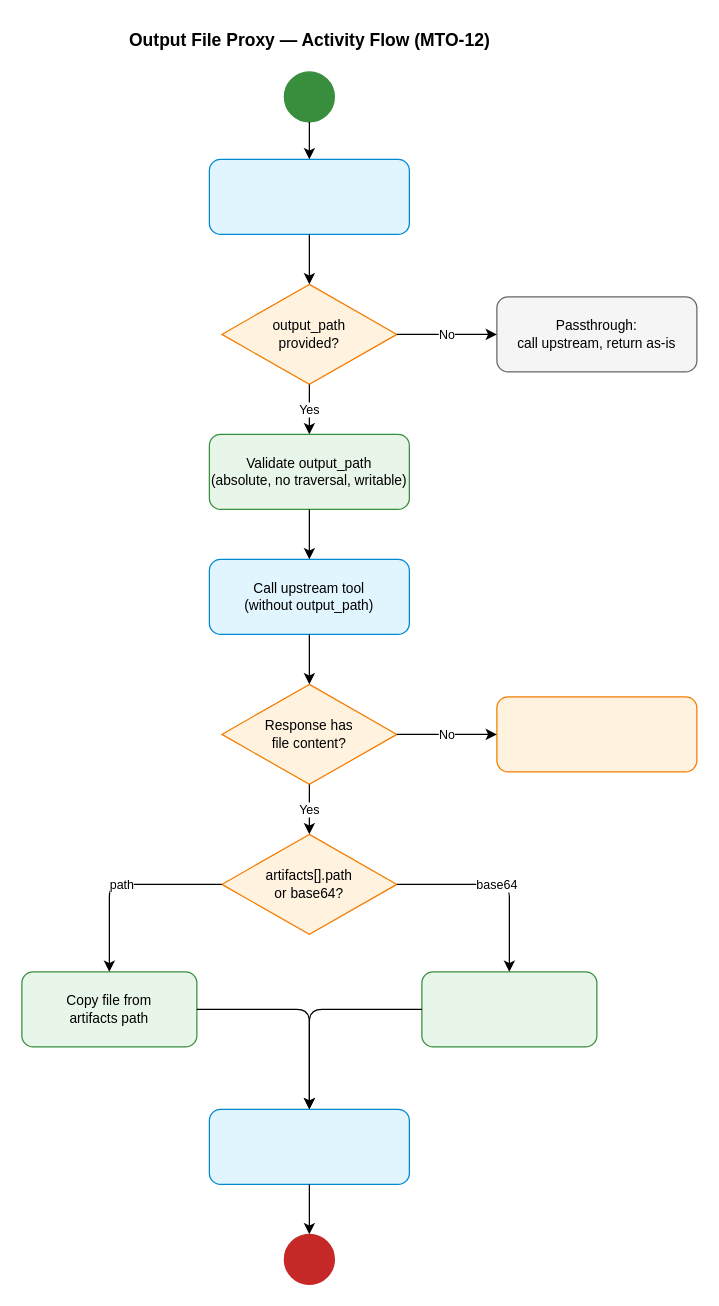
The diagram is 719 pixels wide and 1306 high, and some of its shapes have lost their labels. The box of each missing label's shape, as (x1, y1, x2, y2) in pixels:
Decode base64 and write to disk: (421, 971, 597, 1047)
Receive wrapper tool call: (208, 158, 409, 234)
Return confirmation: {saved_to, bytes_written}: (208, 1108, 409, 1184)
Return response as-is (log WARNING): (496, 696, 697, 772)
